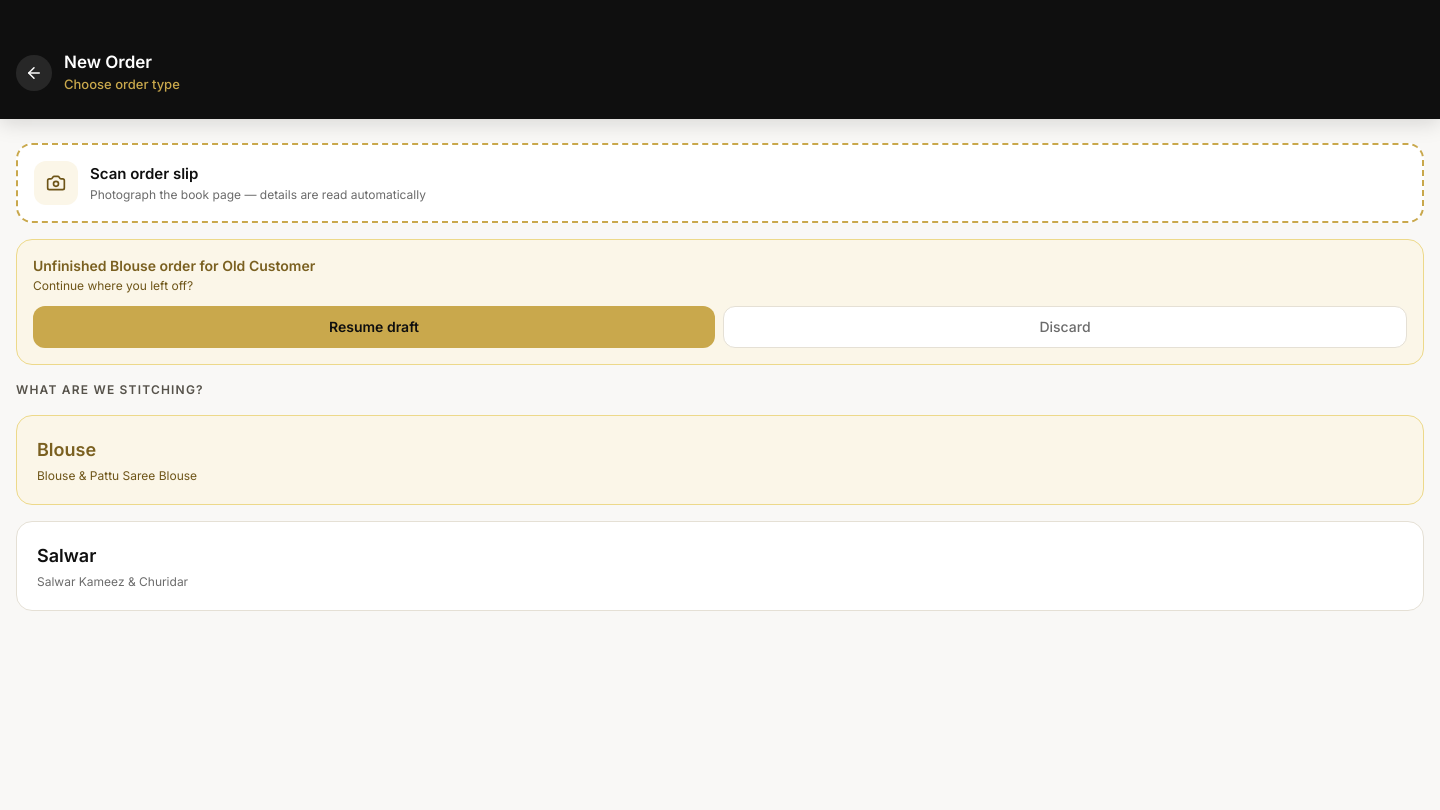
Test: NewOrderWizard › draft persistence › discards a saved draft on request
The width and height of the screenshot is (1440, 810).
Expected: the text "Unfinished Blouse order for Old Customer" is shown, [33, 257, 315, 274]
Click the button "Discard".
click(1065, 327)  # box [723, 306, 1407, 348]
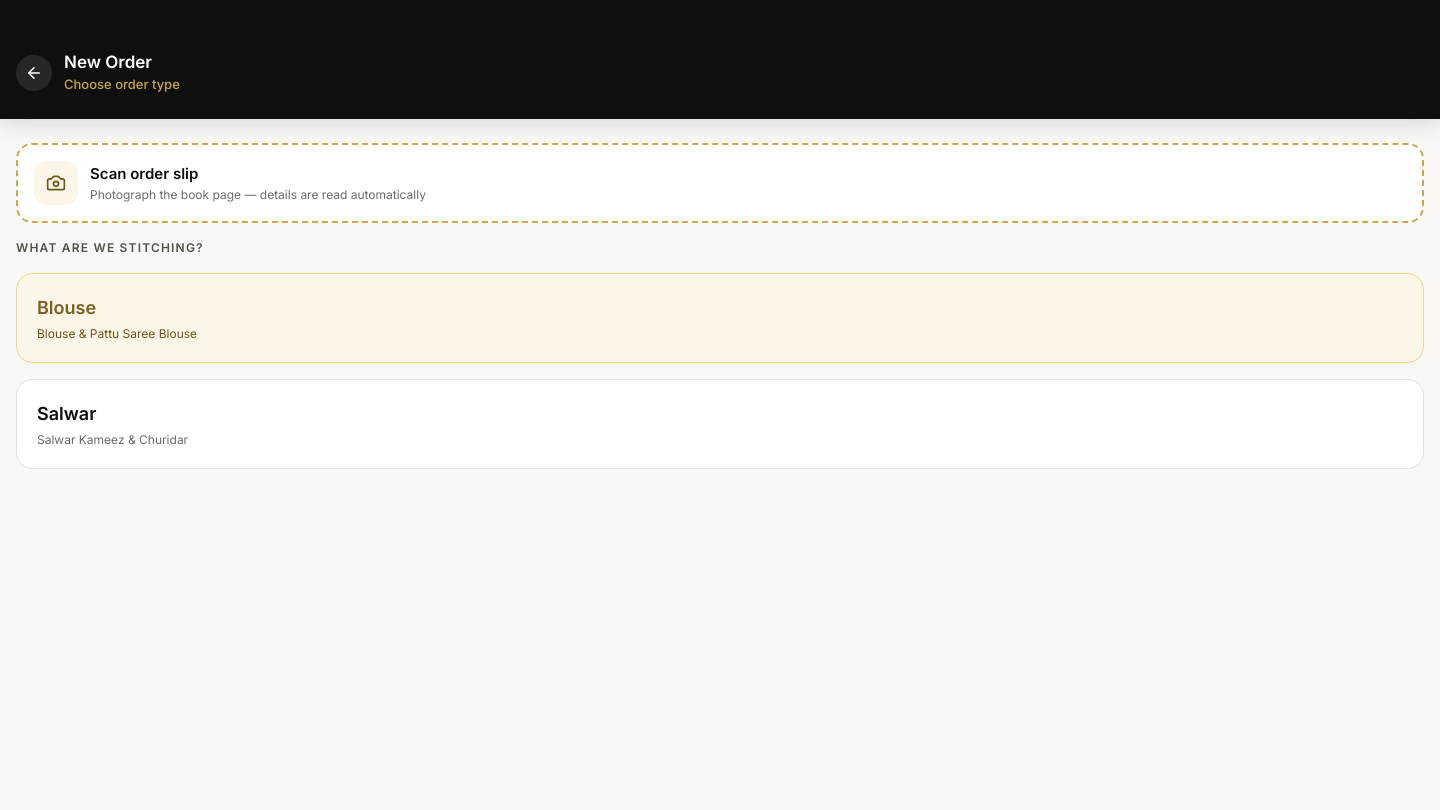
Result: the text "Unfinished Blouse order" is gone
